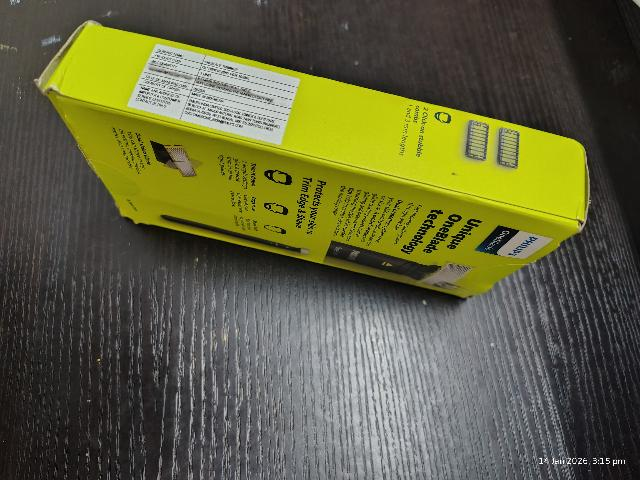phillips oneblade: (48, 21, 593, 304)
